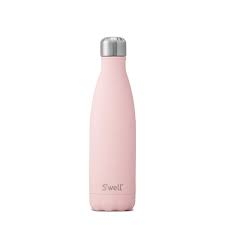bottle: (88, 36, 137, 212)
